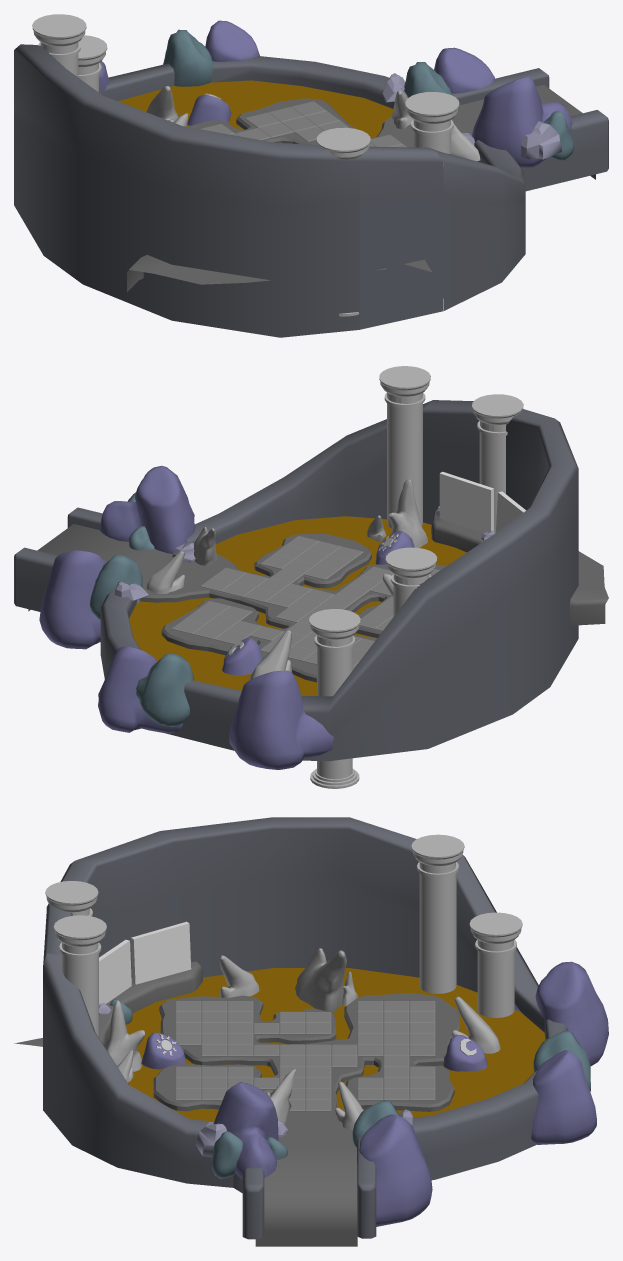
The model's file is FirePuzzle.fbx.
3 renders of one model, top to bottom at view 1: azimuth 30°, elevation 25°; view 2: azimuth 150°, elevation 25°; view 3: azimuth 270°, elevation 25°, orthographic. The views are drawn at different scales.
Visible parts, largest first — view 1: wall5, wall1, wall4, lava1, wall7, rock_02_lp3, wall3, platforms1, tiles_puzzle, pilar4, pilar1, rock_03_lp14 (+15 smaller); view 2: wall5, tiles_puzzle, platforms1, wall4, lava1, rock_02_lp4, pilar4, rock_02_lp3, wall1, rock_02_lp2, pilar3, rock_02_lp5 (+17 smaller); view 3: wall5, platforms1, tiles_puzzle, wall4, lava1, wall7, pilar1, rock_02_lp2, rock_02_lp5, rock_02_lp4, pilar3, rock_02_lp3 (+20 smaller).
Part boxes in pixels (<box>): wall5: <box>14,44,361,337</box>; wall1: <box>360,146,443,329</box>; wall4: <box>429,140,525,310</box>; lava1: <box>118,80,393,138</box>; wall7: <box>210,56,408,108</box>; rock_02_lp3: <box>472,76,572,167</box>; wall3: <box>482,110,608,191</box>; platforms1: <box>188,84,595,179</box>; tiles_puzzle: <box>200,101,406,147</box>; pilar4: <box>405,92,459,165</box>; pilar1: <box>32,14,86,77</box>; rock_03_lp14: <box>163,29,212,86</box>; wall5: <box>301,409,578,761</box>; tiles_puzzle: <box>171,536,439,669</box>; platforms1: <box>28,524,445,682</box>; wall4: <box>186,400,432,543</box>; lava1: <box>129,516,466,695</box>; rock_02_lp4: <box>229,670,333,769</box>; pilar4: <box>379,366,430,528</box>; rock_02_lp3: <box>99,465,195,553</box>; wall1: <box>423,400,479,524</box>; rock_02_lp2: <box>39,550,105,649</box>; pilar3: <box>309,609,360,788</box>; rock_02_lp5: <box>98,646,182,733</box>; wall5: <box>46,817,544,1032</box>; platforms1: <box>153,993,459,1246</box>; tiles_puzzle: <box>175,1001,435,1111</box>; wall4: <box>43,953,233,1187</box>; lava1: <box>126,968,545,1121</box>; wall7: <box>412,1070,538,1180</box>; pilar1: <box>411,834,464,993</box>; rock_02_lp2: <box>357,1114,432,1226</box>; rock_02_lp5: <box>531,1050,596,1144</box>; rock_02_lp4: <box>514,961,608,1066</box>; pilar3: <box>469,912,522,1017</box>; rock_02_lp3: <box>213,1082,278,1179</box>.
Bounding box in the file's own units: 48.91 × 20.76 × 49.5.
